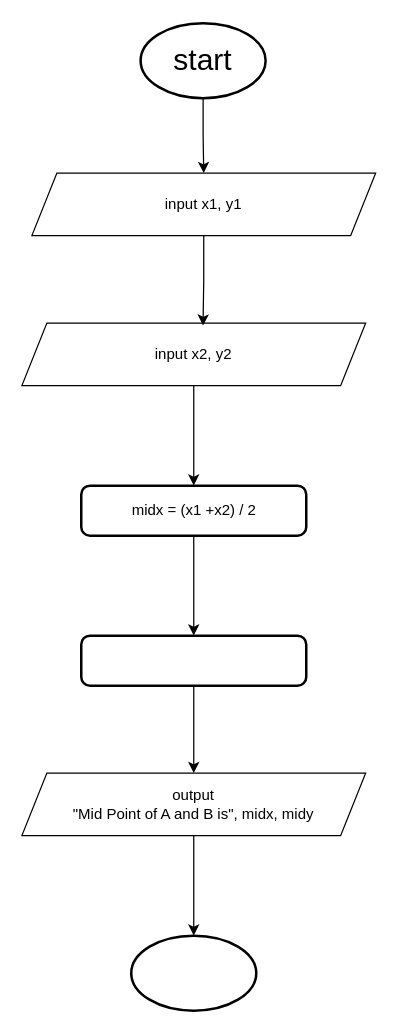
Some shapes in this 398 by 1033 pixel diagram are drawn without their labels. Here are the shapes that lost their labels. From the top down, the centre of each, then its label:
the point at 193,660: midy = (y1 + y2) / 2
the point at 193,972: end
